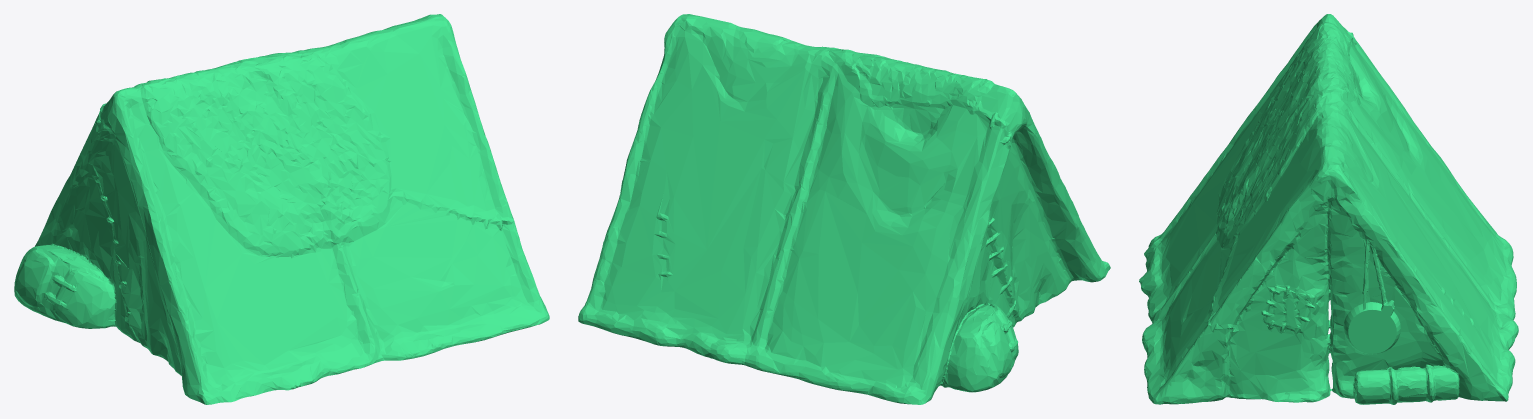
File: tent.glb
3 renders of one model, left to right at view 1: azimuth 30°, elevation 25°; view 2: azimuth 150°, elevation 25°; view 3: azimuth 270°, elevation 25°, orthographic. The views are drawn at different scales.
Visible parts, largest first — view 1: scout_tent; view 2: scout_tent; view 3: scout_tent.
Part boxes in pixels (x1,y1,x2,y2): scout_tent: (14,14,549,404); scout_tent: (578,14,1110,404); scout_tent: (1139,14,1518,404).
Size of the model in its own units: 70.47 by 41.47 by 60.97.
